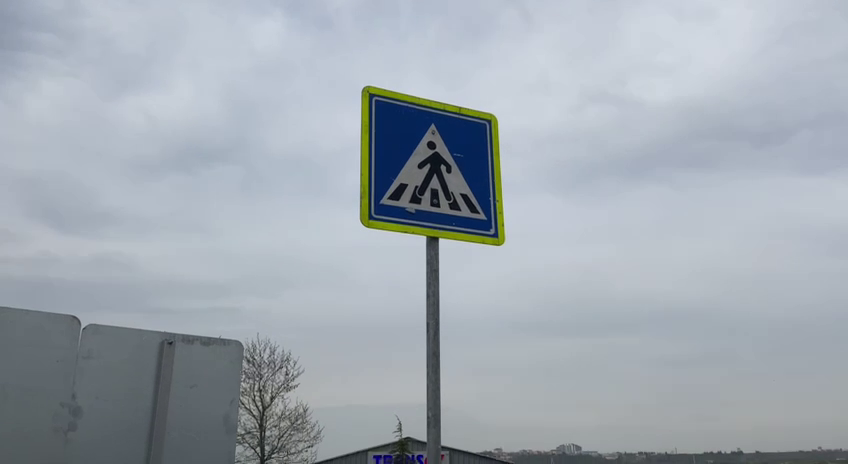pedestrianCrossing: (356, 80, 509, 250)
